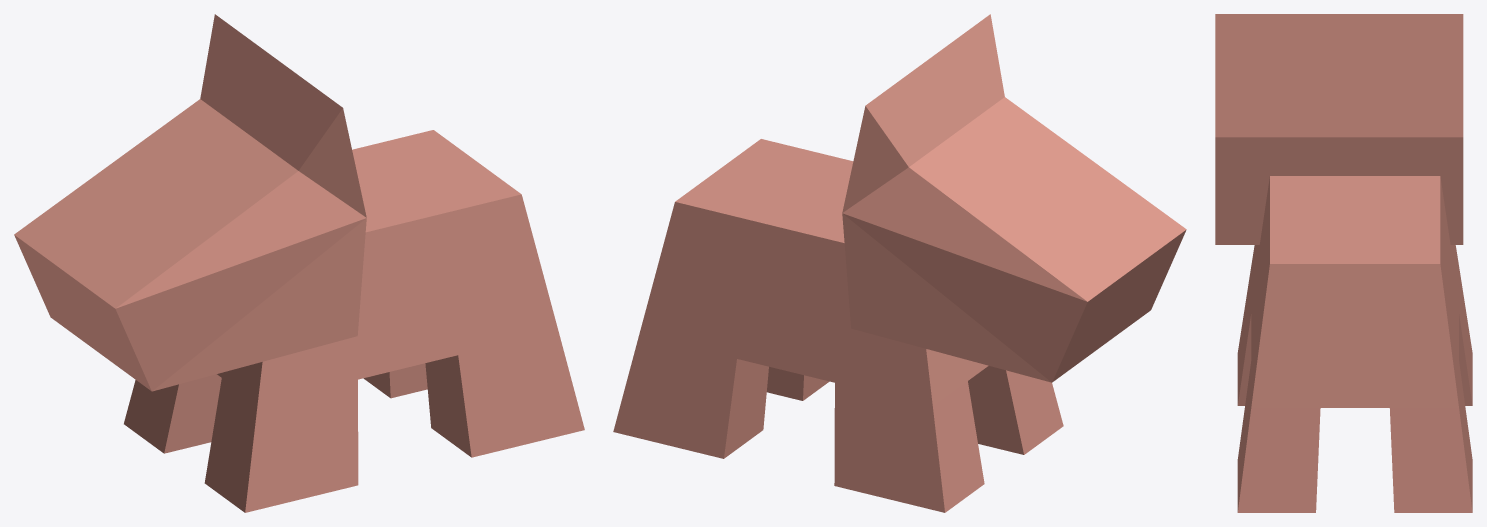
The model's file is old_pet.fbx.
The picture shows the model from 3 angles, left to right: view 1: azimuth 30°, elevation 25°; view 2: azimuth 150°, elevation 25°; view 3: azimuth 270°, elevation 25°; orthographic projection. The views are drawn at different scales.
Visible parts, largest first — view 1: Cube.001, Cube; view 2: Cube, Cube.001; view 3: Cube, Cube.001.
Part boxes in pixels (box(x1,y1,x2,y2)): Cube.001: box(14, 14, 366, 391); Cube: box(124, 130, 584, 512); Cube: box(613, 139, 1063, 512); Cube.001: box(842, 14, 1186, 382); Cube: box(1237, 176, 1472, 512); Cube.001: box(1215, 14, 1463, 244).
Bounding box in the file's own units: 502 × 403 × 247.
